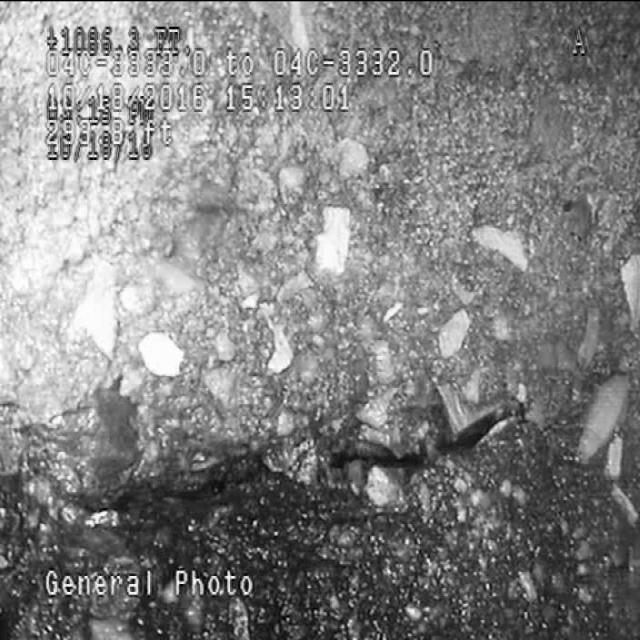Crack: (61, 320, 516, 522)
